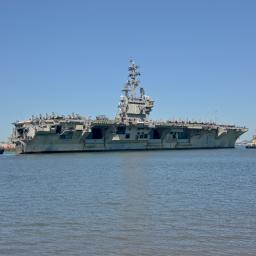Portanaves: (12, 56, 250, 158)
